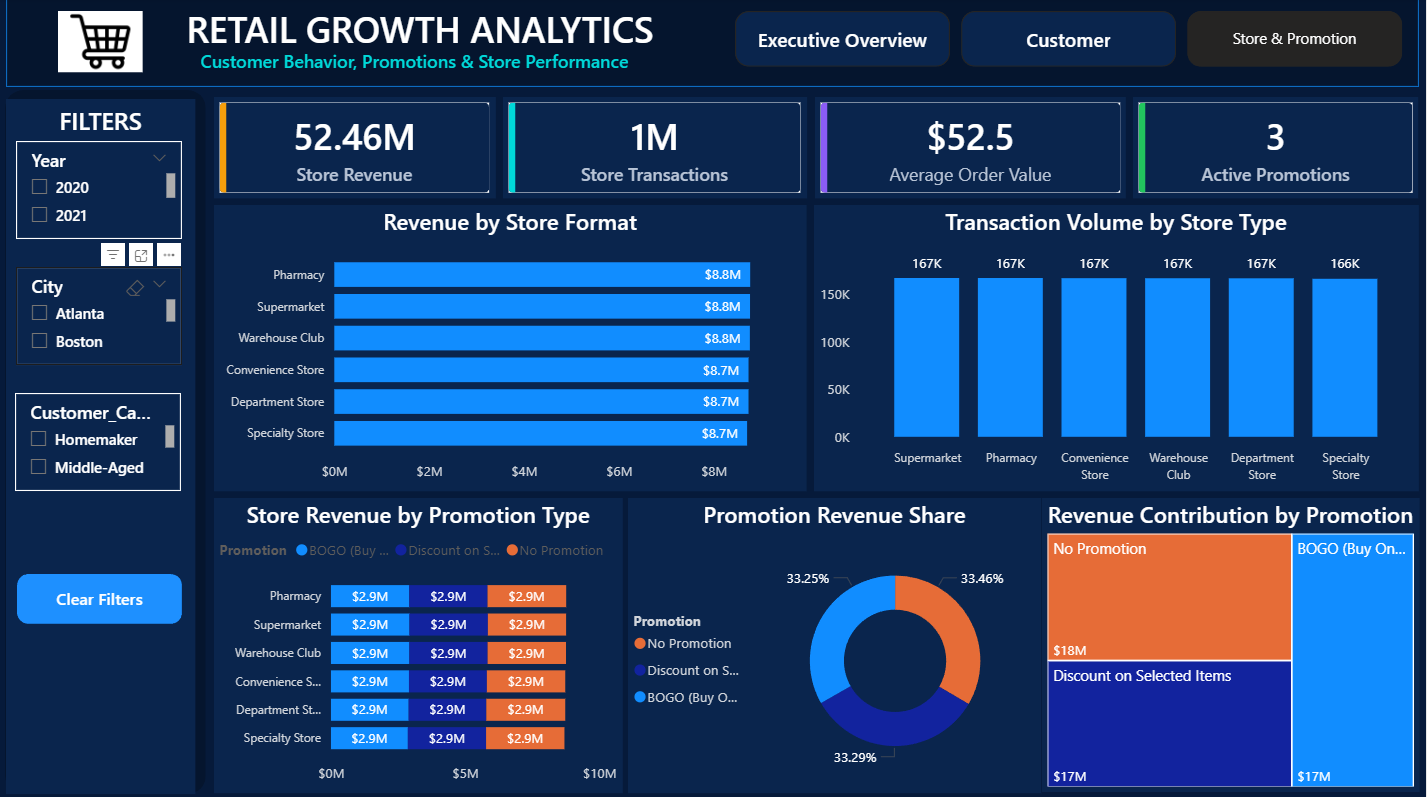

The page's visual inventory and layout, read from the dashboard file:
{"tool":"powerbi","page":{"name":"Store & Promotion","canvas":[1280,720],"ordinal":2},"visuals":[{"type":"shape","box":[4.5,82.6,180.4,632],"z":0},{"type":"shape","box":[5.4,0,1268.5,79.9],"z":1000},{"type":"textbox","box":[162.5,0,439.9,55.7],"z":2000},{"type":"image","box":[52.2,11.9,75.9,54.9],"z":3000},{"type":"textbox","box":[175.1,40.4,394.1,30.5],"z":4000},{"type":"cardVisual","title":"Customer Revenue","fields":{"Data":["retail_dashboard.Store Revenue"]},"box":[192.1,88.7,252.5,91.5],"z":5000},{"type":"cardVisual","title":"Customer Segments","fields":{"Data":["retail_dashboard.Active Promotions"]},"box":[1017.4,88.7,256.2,91.5],"z":6000},{"type":"cardVisual","title":"Avg Basket Value","fields":{"Data":["retail_dashboard.Average Order Value"]},"box":[731.3,88.7,279.1,91.5],"z":7000},{"type":"cardVisual","title":"Customer Transactions","fields":{"Data":["retail_dashboard.Store Transactions"]},"box":[451.7,88.7,272.7,91.5],"z":8000},{"type":"clusteredBarChart","title":"Revenue by Store Format","fields":{"Category":["retail_dashboard.Store_Type"],"Y":["retail_dashboard.Total Revenue"]},"box":[192.1,185.7,531.6,257.1],"z":9000},{"type":"textbox","box":[5.4,90.7,169.7,623.9],"z":10000},{"type":"slicer","fields":{"Values":["retail_dashboard.City"]},"box":[14.5,241.7,149,88],"z":11000},{"type":"slicer","fields":{"Values":["retail_dashboard.Year"]},"box":[14.4,128.4,149,88],"z":12000},{"type":"slicer","fields":{"Values":["retail_dashboard.Customer_Category"]},"box":[13.7,355,149.1,87.8],"z":13000},{"type":"actionButton","title":"Clear Filter","box":[15.6,516.9,148.2,44.8],"z":14000},{"type":"clusteredColumnChart","title":"Transaction Volume by Store Type","fields":{"Y":["retail_dashboard.Total Transactions"],"Category":["retail_dashboard.Store_Type"]},"box":[731,185.7,542.6,257.1],"z":15000},{"type":"barChart","title":"Store Revenue by Promotion Type","fields":{"Category":["retail_dashboard.Store_Type"],"Series":["retail_dashboard.Promotion"],"Y":["retail_dashboard.Total Revenue"]},"box":[192.1,449.2,366.9,265.3],"z":16000},{"type":"donutChart","title":"Promotion Revenue Share","fields":{"Category":["retail_dashboard.Promotion"],"Y":["retail_dashboard.Total Revenue"]},"box":[563.6,449.2,370.6,265.3],"z":17000},{"type":"treemap","title":"Revenue Contribution by Promotion","fields":{"Values":["retail_dashboard.Total Revenue"],"Details":["retail_dashboard.Promotion"]},"box":[935.1,449.2,338.5,264.4],"z":18000},{"type":"pageNavigator","box":[659.7,11.9,600.2,50.3],"z":18001}]}

Visuals, with their boxes in screenshot pixels (x1, y1, x2, y2), scaled from the page's 1280x720 canvas onto the 1427x797 screenshot:
shape: <bbox>5, 91, 206, 791</bbox>
shape: <bbox>6, 0, 1420, 88</bbox>
textbox: <bbox>181, 0, 672, 62</bbox>
image: <bbox>58, 13, 143, 74</bbox>
textbox: <bbox>195, 45, 635, 78</bbox>
"Customer Revenue" cardVisual: <bbox>214, 98, 496, 199</bbox>
"Customer Segments" cardVisual: <bbox>1134, 98, 1420, 199</bbox>
"Avg Basket Value" cardVisual: <bbox>815, 98, 1126, 199</bbox>
"Customer Transactions" cardVisual: <bbox>504, 98, 808, 199</bbox>
"Revenue by Store Format" clusteredBarChart: <bbox>214, 206, 807, 490</bbox>
textbox: <bbox>6, 100, 195, 791</bbox>
slicer - retail_dashboard.City: <bbox>16, 268, 182, 365</bbox>
slicer - retail_dashboard.Year: <bbox>16, 142, 182, 240</bbox>
slicer - retail_dashboard.Customer_Category: <bbox>15, 393, 181, 490</bbox>
"Clear Filter" actionButton: <bbox>17, 572, 183, 622</bbox>
"Transaction Volume by Store Type" clusteredColumnChart: <bbox>815, 206, 1420, 490</bbox>
"Store Revenue by Promotion Type" barChart: <bbox>214, 497, 623, 791</bbox>
"Promotion Revenue Share" donutChart: <bbox>628, 497, 1041, 791</bbox>
"Revenue Contribution by Promotion" treemap: <bbox>1042, 497, 1420, 790</bbox>
pageNavigator: <bbox>735, 13, 1405, 69</bbox>
